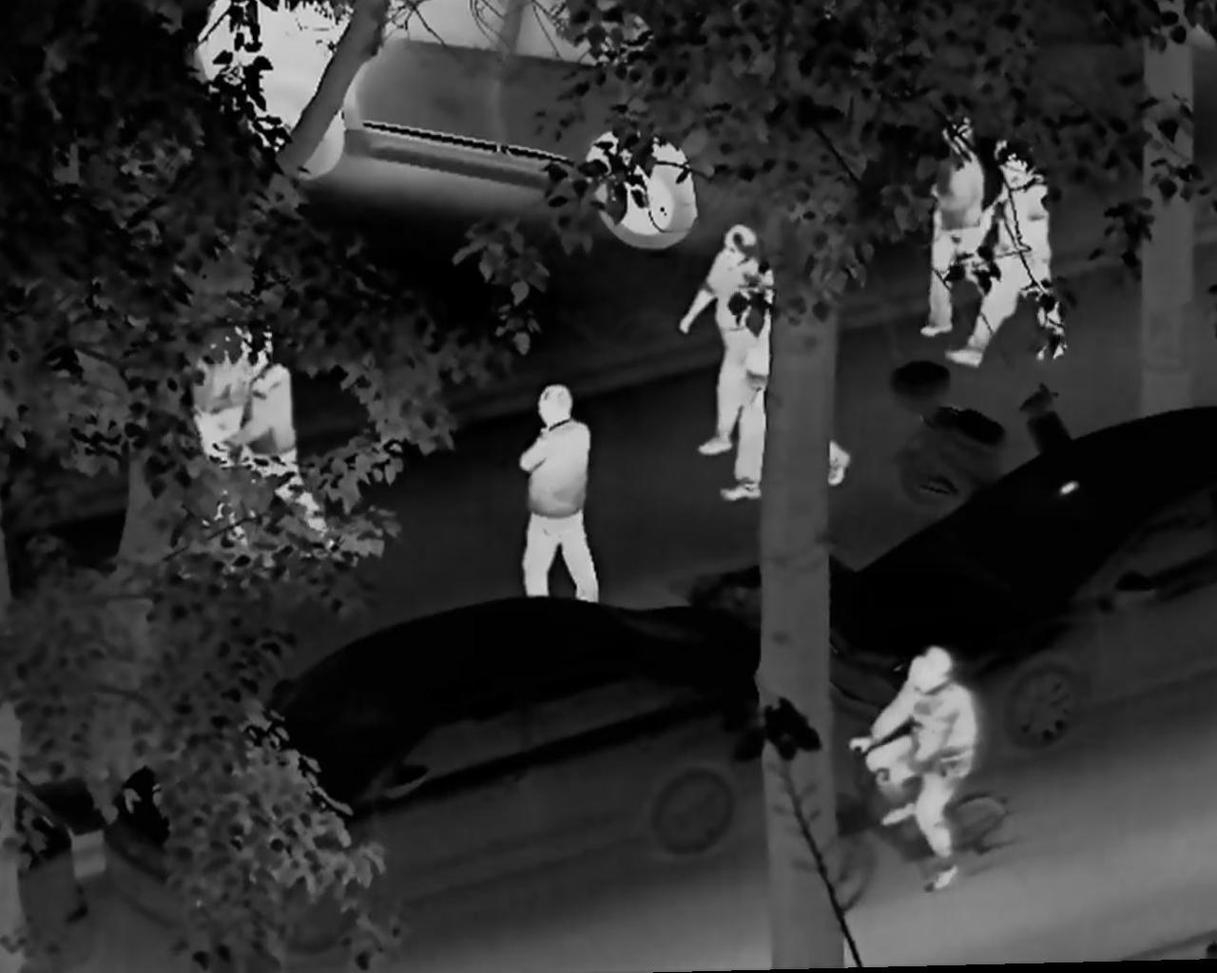person: (842, 639, 985, 903), (718, 264, 853, 506), (223, 331, 338, 565), (950, 143, 1066, 372), (507, 379, 607, 608), (680, 220, 771, 458), (179, 284, 258, 539), (915, 111, 989, 337)
